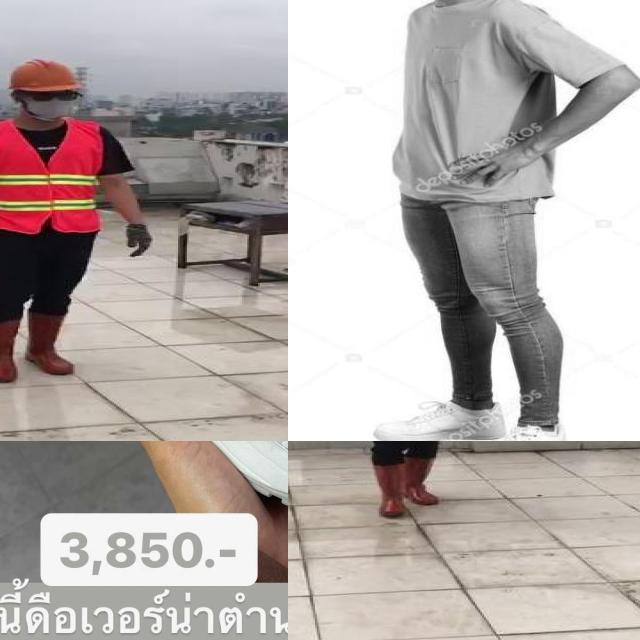Sandals: (0, 441, 288, 547)
boots: (27, 310, 77, 375), (368, 462, 409, 519), (406, 454, 440, 503), (0, 314, 23, 383)
face_mask: (22, 88, 80, 121)
glasses: (27, 88, 82, 104)
hand_glove: (123, 224, 155, 260)
hand_noglove: (445, 144, 537, 192)
head_helmet: (5, 57, 84, 95)
person: (372, 0, 640, 441), (0, 53, 161, 389), (333, 441, 495, 522)
vest: (0, 118, 105, 234)
